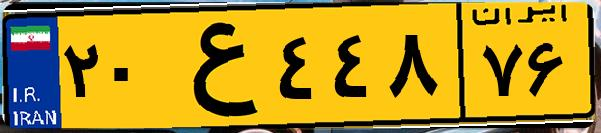0: (110, 28, 158, 98)
2: (57, 26, 110, 100)
4: (270, 28, 330, 110), (330, 28, 385, 110)
6: (525, 38, 570, 115)
7: (475, 38, 525, 113)
8: (385, 28, 445, 110)
ع: (158, 12, 270, 120)
